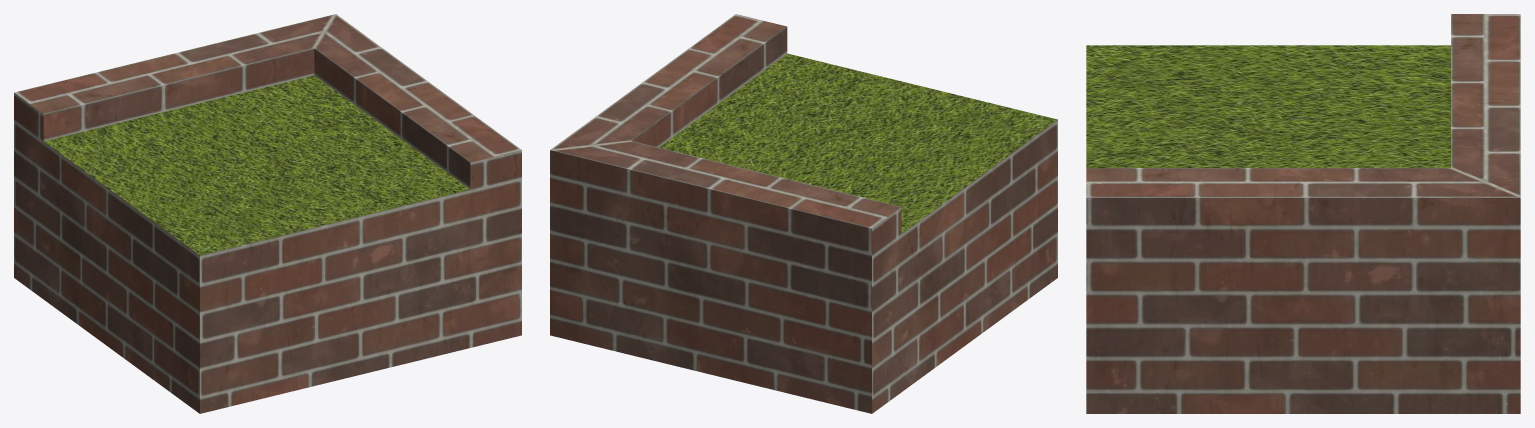
Rendered from grass_corner_half.dae.
3 views of the same model, side by side, from view 1: azimuth 30°, elevation 25°; view 2: azimuth 150°, elevation 25°; view 3: azimuth 270°, elevation 25° (orthographic). The views are drawn at different scales.
Parts seen in each view (by area): view 1: group_0 (×3); view 2: group_0 (×3); view 3: group_0 (×3).
Boxes of the visible parts, bbox=[...] form: group_0 (×3): bbox=[14, 14, 521, 413]; group_0 (×3): bbox=[550, 14, 1057, 413]; group_0 (×3): bbox=[1086, 14, 1520, 413].
Bounding box in the file's own units: 19.69 × 19.69 × 10.83.
